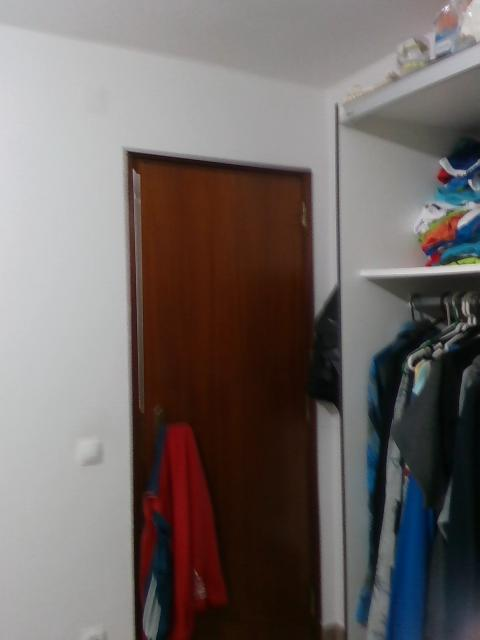door: (140, 165, 311, 640)
